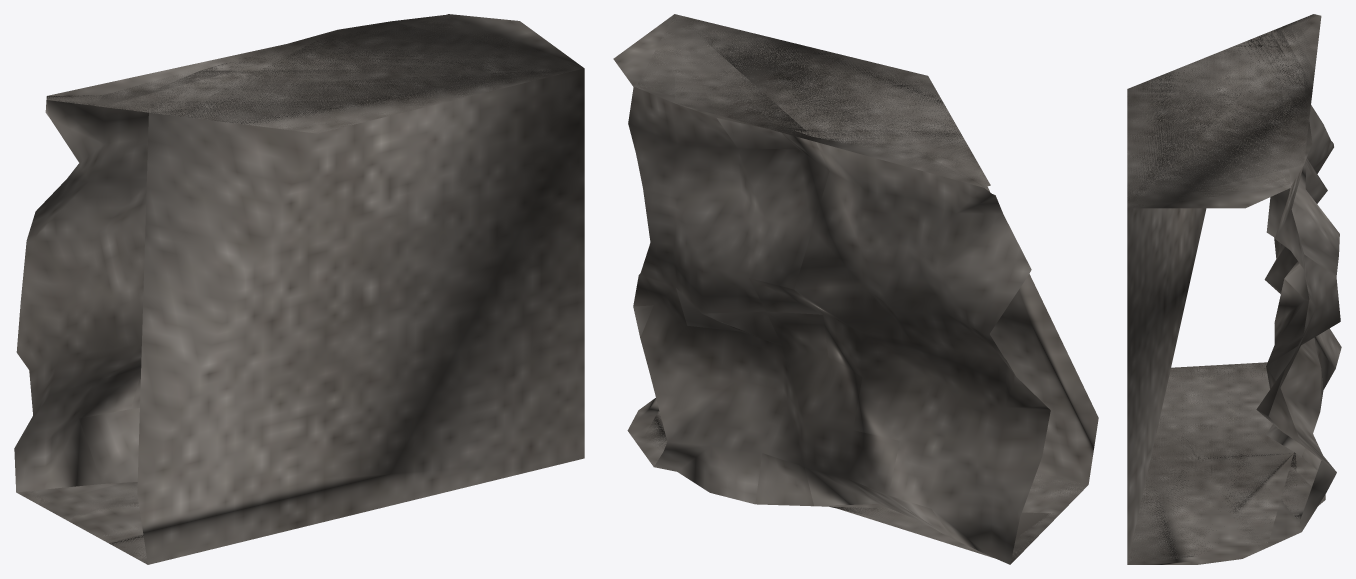
The model's file is cliff_face_2.glb.
3 views of the same model, side by side, from view 1: azimuth 30°, elevation 25°; view 2: azimuth 150°, elevation 25°; view 3: azimuth 270°, elevation 25° (orthographic). The views are drawn at different scales.
Visible parts, largest first — view 1: cliff_face_2; view 2: cliff_face_2; view 3: cliff_face_2.
Part boxes in pixels (x1,y1,x2,y2): cliff_face_2: (14,14,584,564); cliff_face_2: (613,14,1098,564); cliff_face_2: (1127,14,1341,564).
Size of the model in its own units: 8.24 by 6.4 by 3.49.
1 material, 1 textured.
